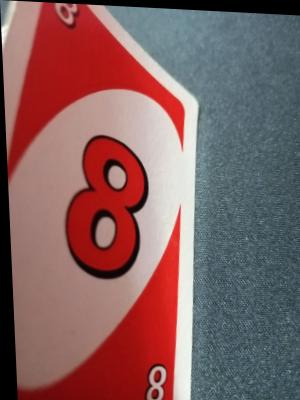num_8: (50, 2, 88, 33)
